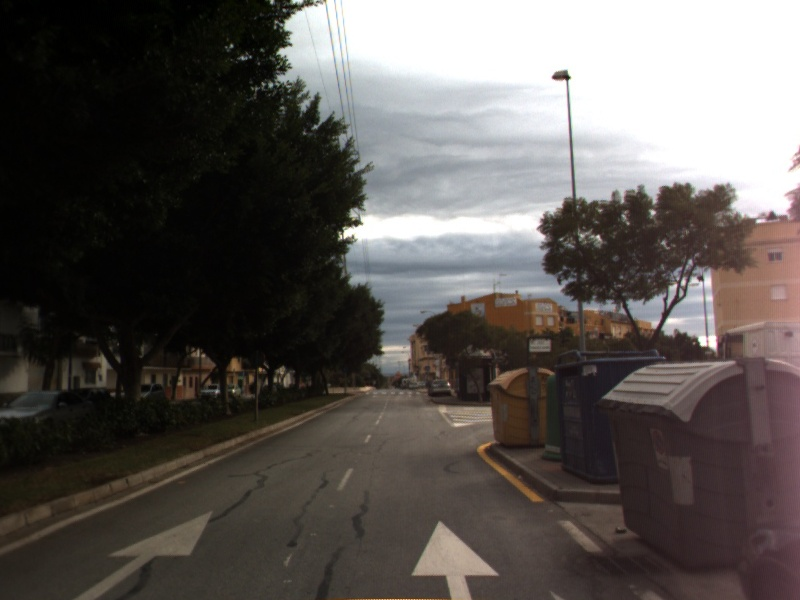STRAIGHT: (64, 507, 215, 600), (407, 517, 503, 600)
